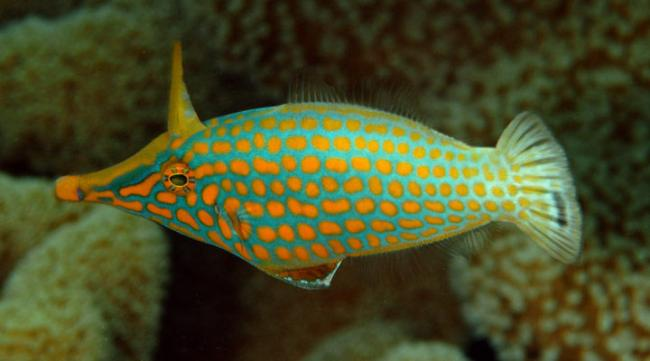fish: (53, 42, 584, 289)
